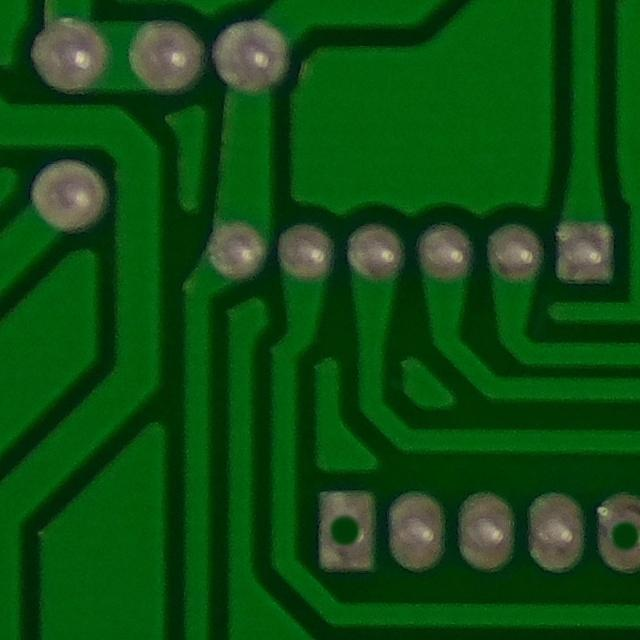missing_hole: (311, 484, 387, 572), (590, 489, 640, 577)
